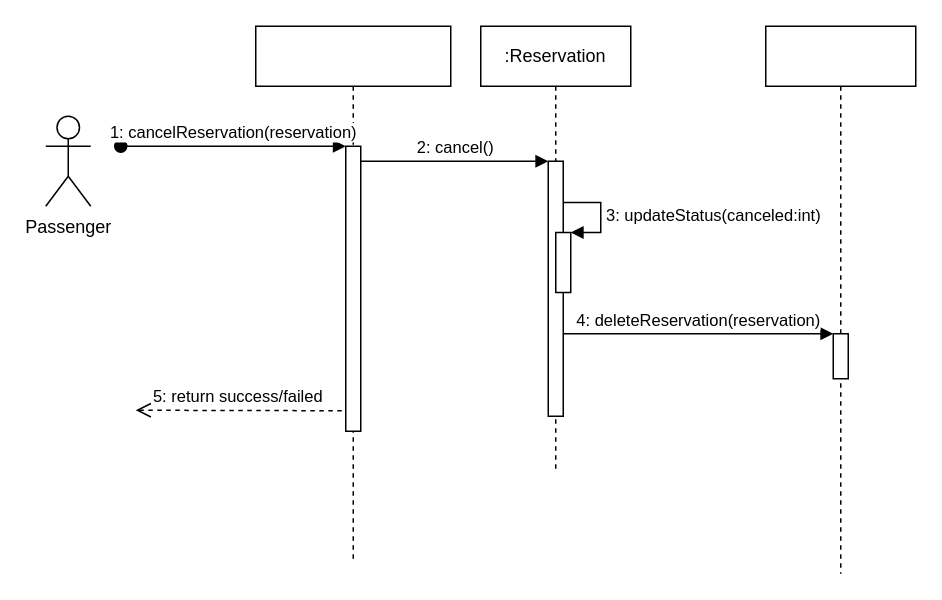
Image size: 942x600. Some labels were removed from this diagram. The box of each missing label's shape, as (x1, y1, x2, y2) in pixels:
:Admin: (254, 25, 451, 559)
:DBSystem: (764, 25, 916, 574)
